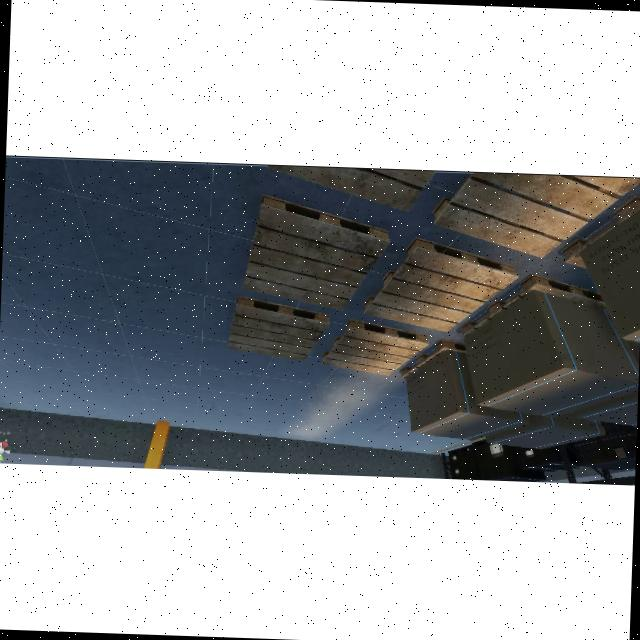wooden_pallet: (362, 236, 519, 332), (459, 274, 605, 337), (227, 295, 330, 361), (320, 318, 428, 375), (400, 338, 465, 379)
